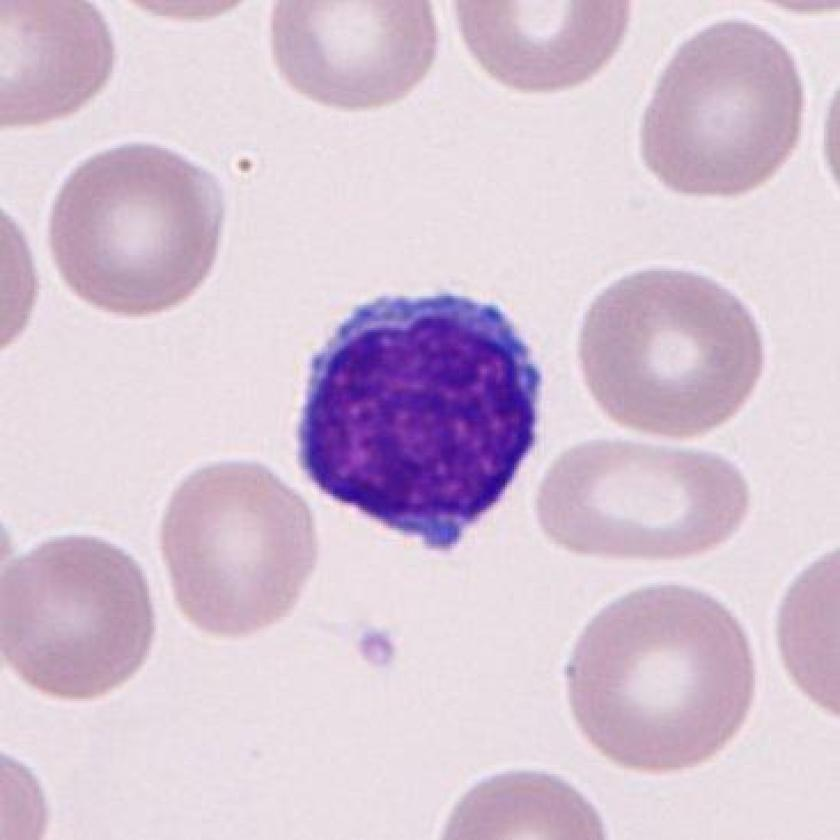lymphocyte: (286, 274, 561, 570)
